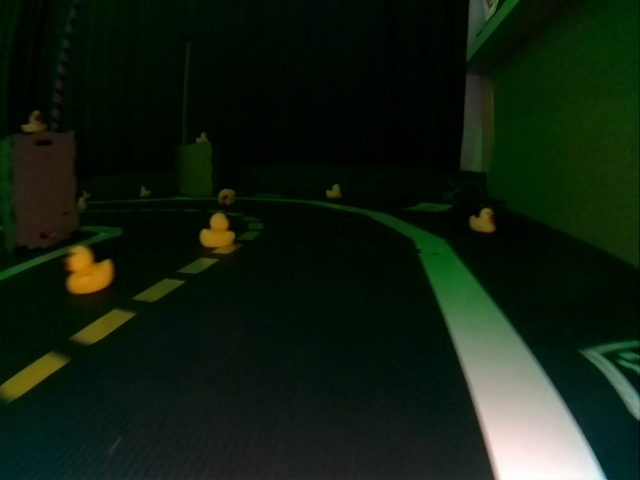Duckie: (65, 246, 113, 294), (200, 213, 231, 248), (470, 208, 495, 232), (21, 110, 46, 133), (217, 189, 235, 205), (326, 184, 342, 199), (196, 132, 207, 142)
QR code: (580, 339, 638, 422)
